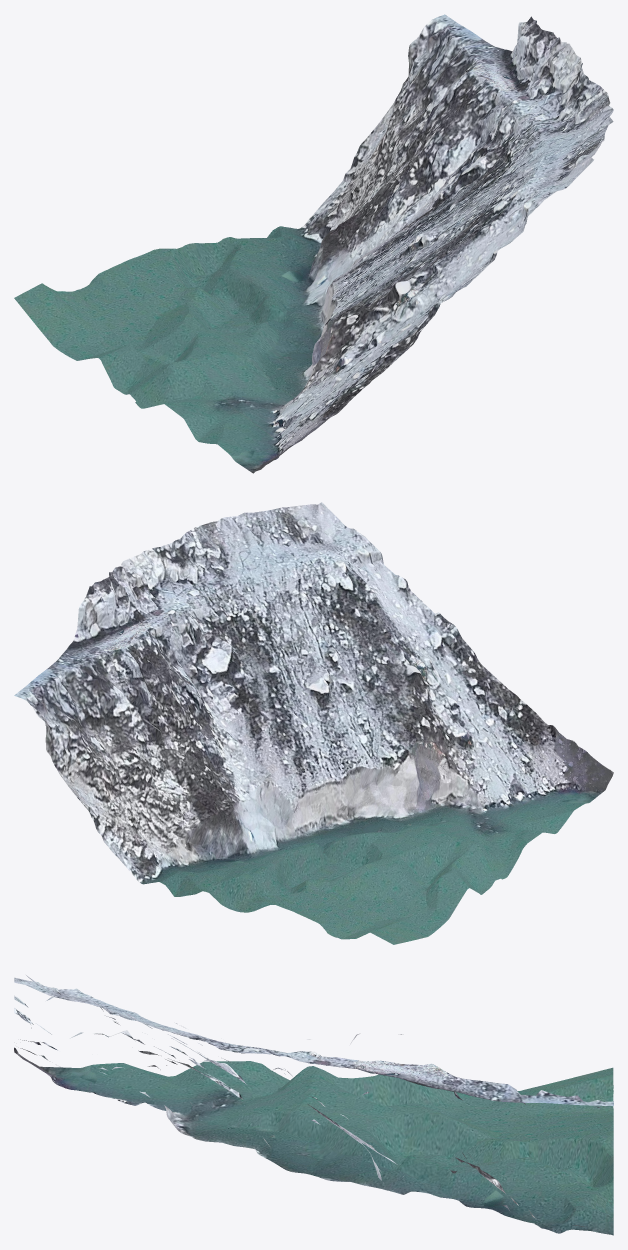
Rendered from Tile_+008_+006_L18_0030.glb.
3 renders of one model, top to bottom at view 1: azimuth 30°, elevation 25°; view 2: azimuth 150°, elevation 25°; view 3: azimuth 270°, elevation 25°, orthographic. The views are drawn at different scales.
Parts seen in each view (by area): view 1: rtc; view 2: rtc; view 3: rtc.
Part boxes in pixels (x1=…): rtc: x1=14, y1=14, x2=613, y2=473; rtc: x1=14, y1=502, x2=613, y2=944; rtc: x1=14, y1=975, x2=613, y2=1235.
Bounding box in the file's own units: 96.63 × 55.47 × 96.71.
7 materials, 7 textured.
